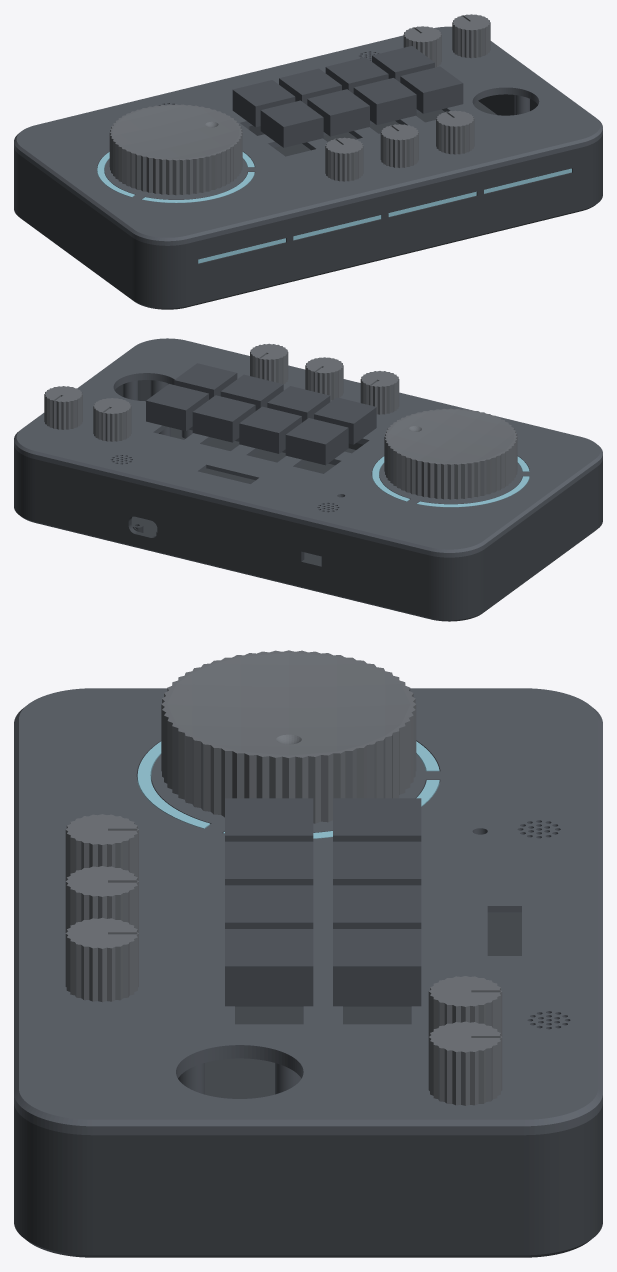
The model's file is assembly.glb.
3 views of the same model, one above another, from view 1: azimuth 30°, elevation 25°; view 2: azimuth 150°, elevation 25°; view 3: azimuth 270°, elevation 25° (orthographic). The views are drawn at different scales.
Parts seen in each view (by area): view 1: top_plate, base, focus_dial, key_4, key_7, key_6, key_5, key_0, light_bar, knob_context, knob_mfY, knob_mag (+6 smaller); view 2: top_plate, base, focus_dial, key_0, key_2, key_1, key_3, key_4, knob_mfY, knob_mfX, knob_mag, knob_intensity (+5 smaller); view 3: top_plate, base, focus_dial, key_3, key_7, knob_mfY, knob_context, key_1, key_5, key_0, key_2, key_4 (+5 smaller).
Part boxes in pixels (bbox=[...]): top_plate: bbox=[14, 26, 602, 245]; base: bbox=[14, 94, 602, 309]; focus_dial: bbox=[109, 104, 242, 195]; key_4: bbox=[260, 100, 323, 147]; key_7: bbox=[400, 66, 463, 113]; key_6: bbox=[353, 78, 416, 124]; key_5: bbox=[307, 89, 369, 136]; key_0: bbox=[232, 80, 295, 127]; light_bar: bbox=[198, 168, 571, 263]; knob_context: bbox=[436, 110, 474, 154]; knob_mfY: bbox=[452, 14, 490, 58]; knob_mag: bbox=[325, 137, 363, 181]; top_plate: bbox=[14, 338, 602, 557]; base: bbox=[14, 380, 602, 621]; focus_dial: bbox=[384, 408, 517, 499]; key_0: bbox=[285, 418, 348, 465]; key_2: bbox=[192, 395, 255, 442]; key_1: bbox=[239, 406, 301, 453]; key_3: bbox=[146, 384, 208, 430]; key_4: bbox=[314, 397, 376, 444]; knob_mfY: bbox=[44, 386, 82, 429]; knob_mfX: bbox=[93, 398, 131, 441]; knob_mag: bbox=[360, 371, 399, 414]; knob_intensity: bbox=[305, 357, 343, 400]; top_plate: bbox=[14, 688, 602, 1135]; base: bbox=[14, 912, 602, 1257]; focus_dial: bbox=[161, 650, 416, 823]; key_3: bbox=[333, 929, 421, 1006]; key_7: bbox=[225, 929, 313, 1006]; knob_mfY: bbox=[428, 1021, 502, 1105]; knob_context: bbox=[65, 917, 138, 1002]; key_1: bbox=[333, 841, 421, 885]; key_5: bbox=[225, 841, 313, 885]; key_0: bbox=[333, 798, 421, 841]; key_2: bbox=[333, 885, 421, 928]; key_4: bbox=[225, 798, 313, 841].
Bounding box in the file's own units: 210 × 47 × 120.
